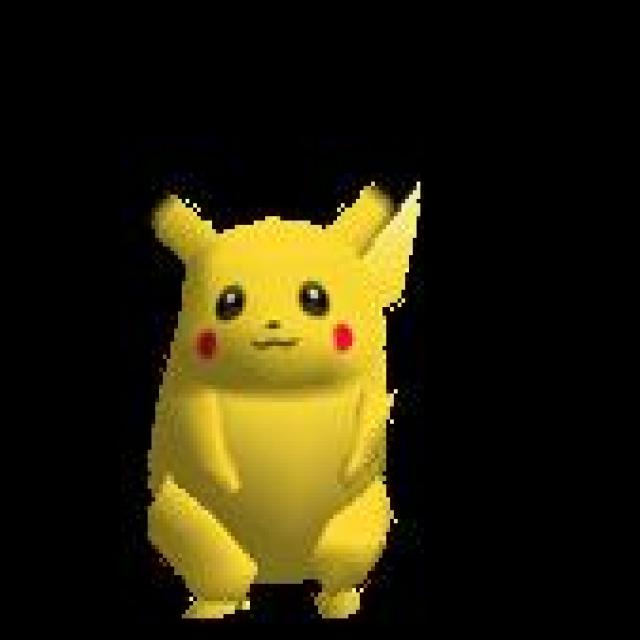pikachu: (130, 160, 434, 622)
